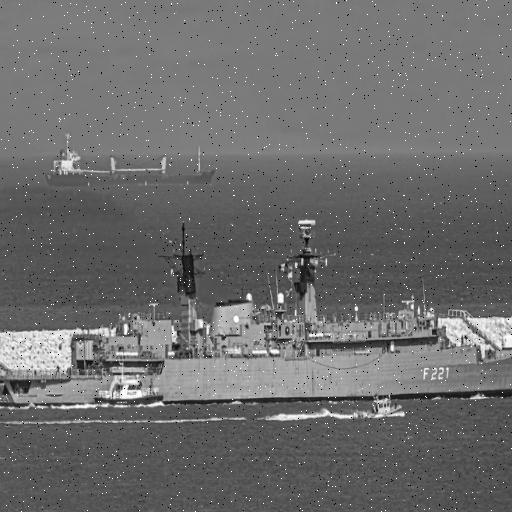Fragata: (1, 193, 512, 412)
